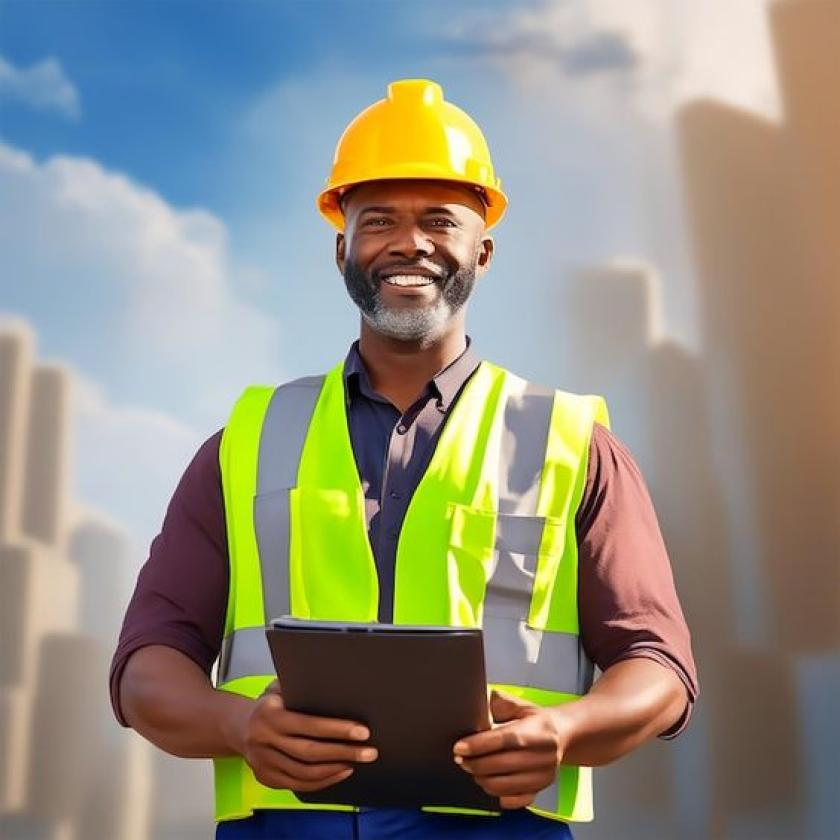Con_casco: (313, 73, 515, 361)
